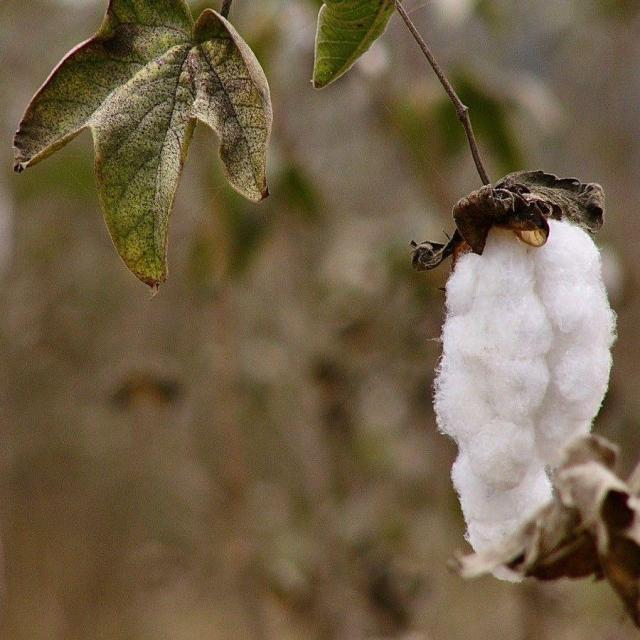Early_blight: (402, 163, 628, 591)
